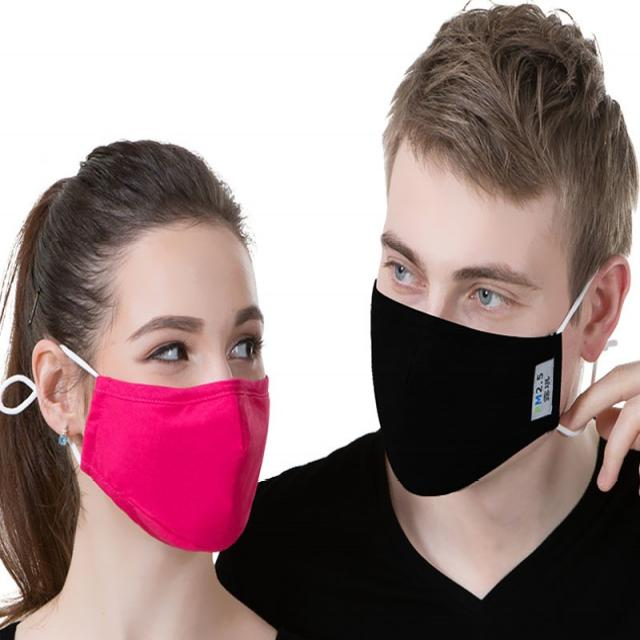mask: (371, 142, 564, 492), (75, 224, 269, 556)
